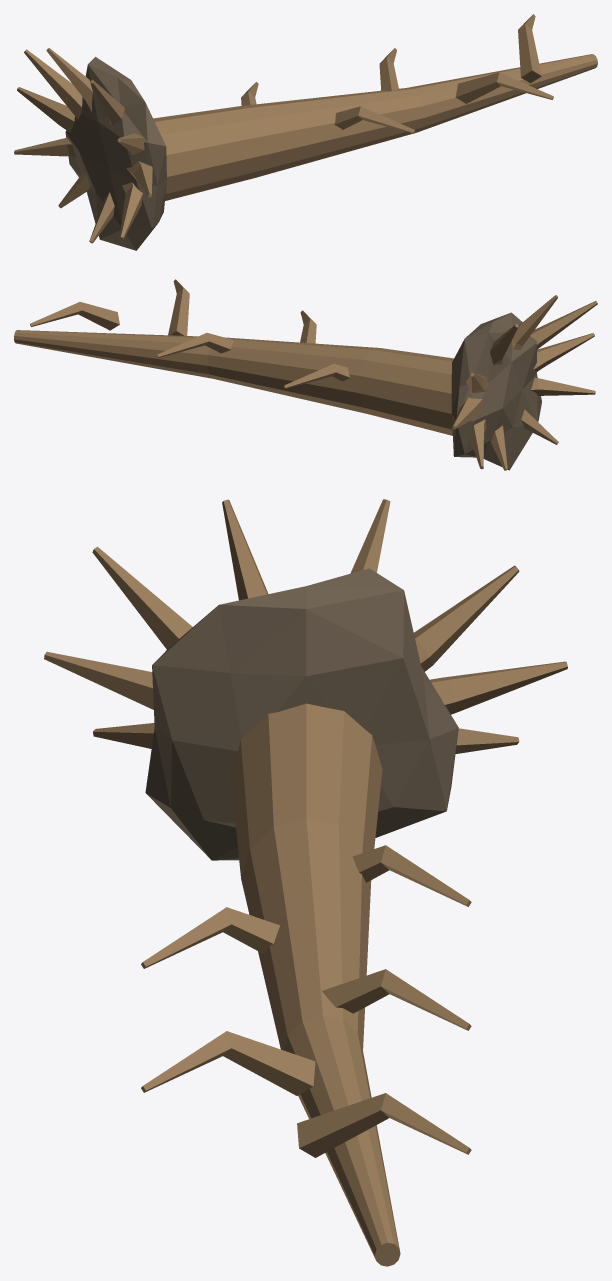
The model's file is fallen_log_02.glb.
3 views of the same model, one above another, from view 1: azimuth 30°, elevation 25°; view 2: azimuth 150°, elevation 25°; view 3: azimuth 270°, elevation 25° (orthographic). The views are drawn at different scales.
Parts seen in each view (by area): view 1: Fallen_log_800_02; view 2: Fallen_log_800_02; view 3: Fallen_log_800_02.
Part boxes in pixels (x1=…): Fallen_log_800_02: x1=14, y1=14, x2=597, y2=250; Fallen_log_800_02: x1=14, y1=279, x2=597, y2=470; Fallen_log_800_02: x1=44, y1=499, x2=567, y2=1266.
Bounding box in the file's own units: 7.23 × 2.27 × 3.22.
